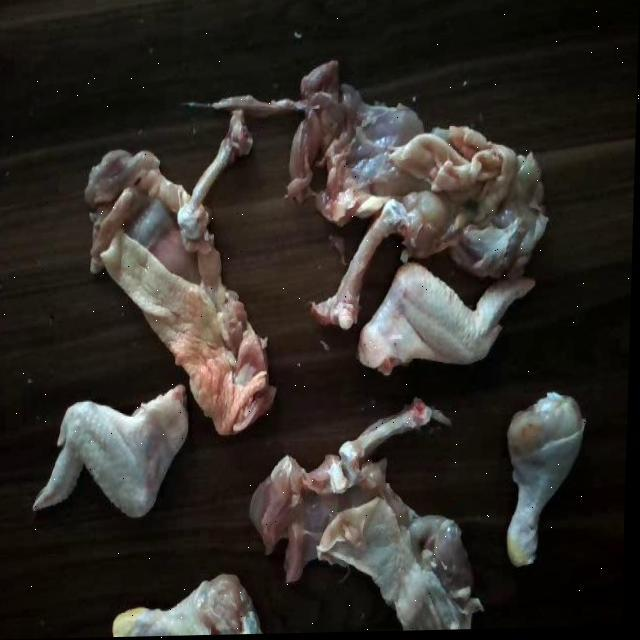leg: (501, 394, 587, 588)
wing: (31, 378, 200, 516), (364, 255, 531, 388)
